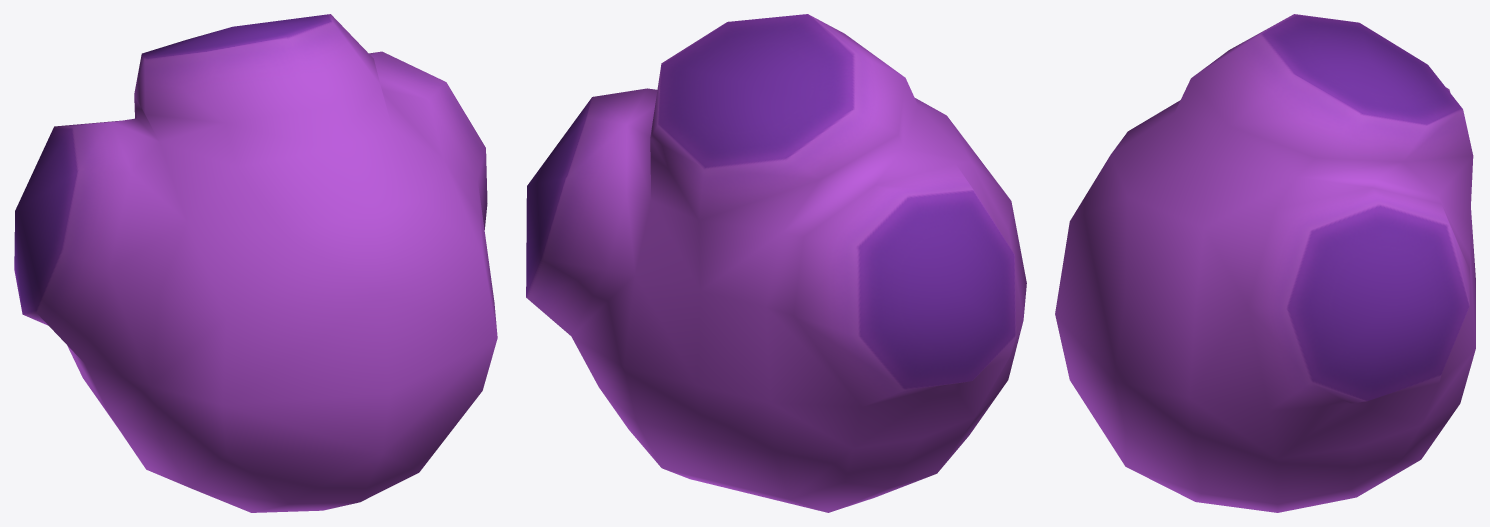
Rendered from Smoke.fbx.
3 views of the same model, side by side, from view 1: azimuth 30°, elevation 25°; view 2: azimuth 150°, elevation 25°; view 3: azimuth 270°, elevation 25° (orthographic). The views are drawn at different scales.
Visible parts, largest first — view 1: Smoke; view 2: Smoke; view 3: Smoke.
Boxes of the visible parts, x1,y1,x2,y2 form: Smoke: (14, 14, 497, 512); Smoke: (526, 14, 1026, 512); Smoke: (1055, 14, 1475, 512).
Bounding box in the file's own units: 140 × 132 × 113.
1 material, 1 textured.
